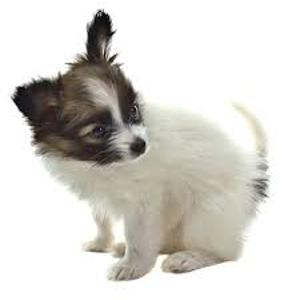yell: (10, 9, 268, 280)
